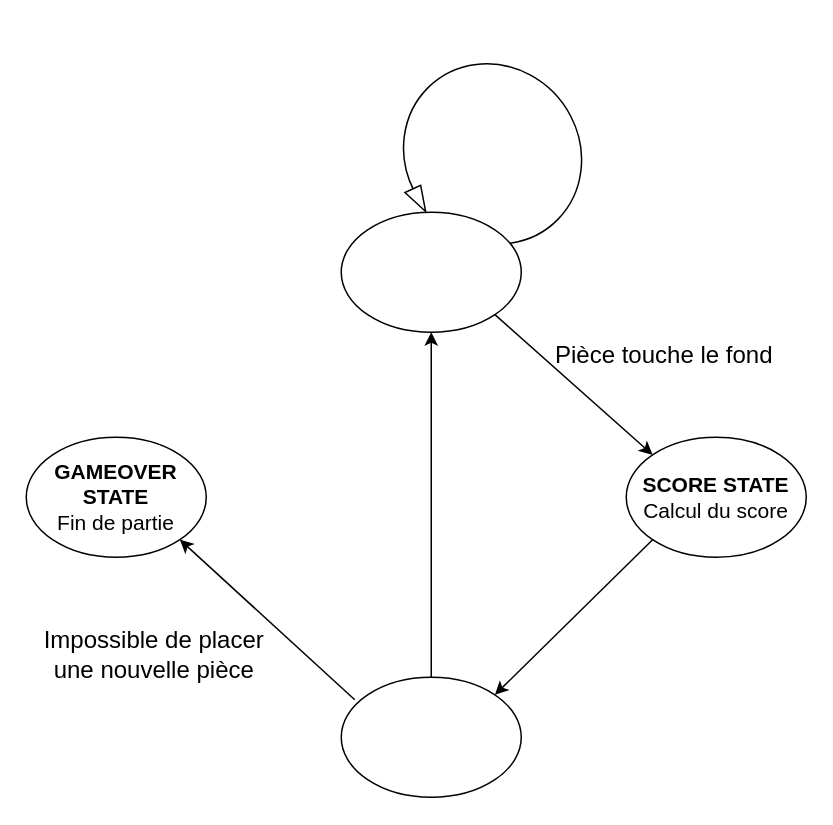
Some shapes in this 833 by 825 pixel diagram are drawn without their labels. The shapes that lost their labels are listed below. From the top down, each one's centre as x and y in pixels, then its label:
(430,271): PLAY STATE Inputs joueur Gestion chute
(430,736): SPAWN STATE Génération d'une pièce
